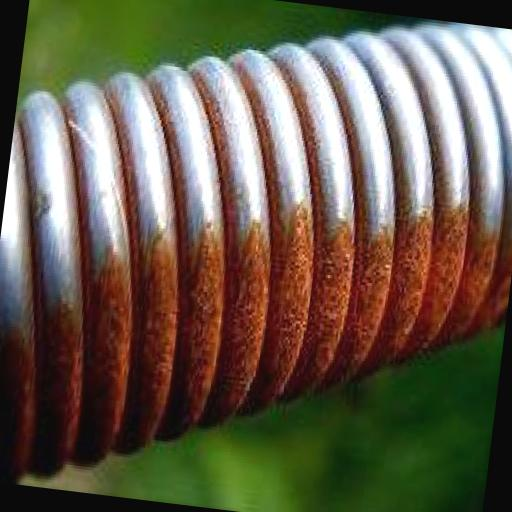segmentation: (0, 208, 512, 482)
